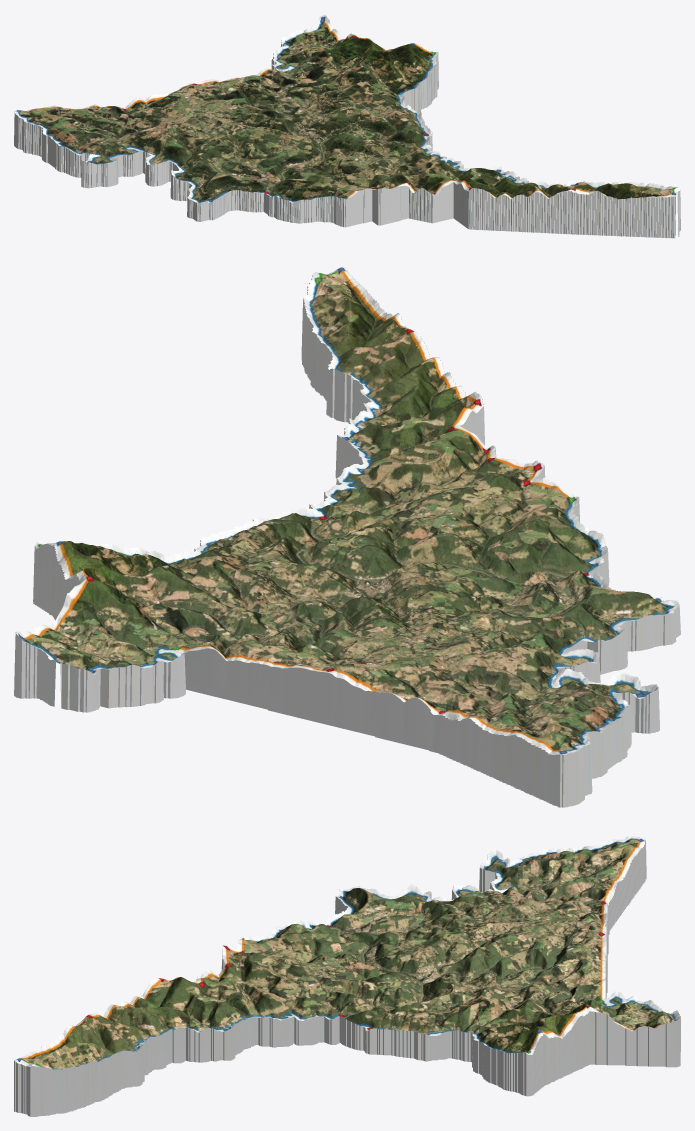
3 renders of one model, top to bottom at view 1: azimuth 30°, elevation 25°; view 2: azimuth 150°, elevation 25°; view 3: azimuth 270°, elevation 25°, orthographic. The views are drawn at different scales.
Bounding box in the file's own units: 0.9995 × 0.1089 × 1.16.
1 material, 1 textured.
